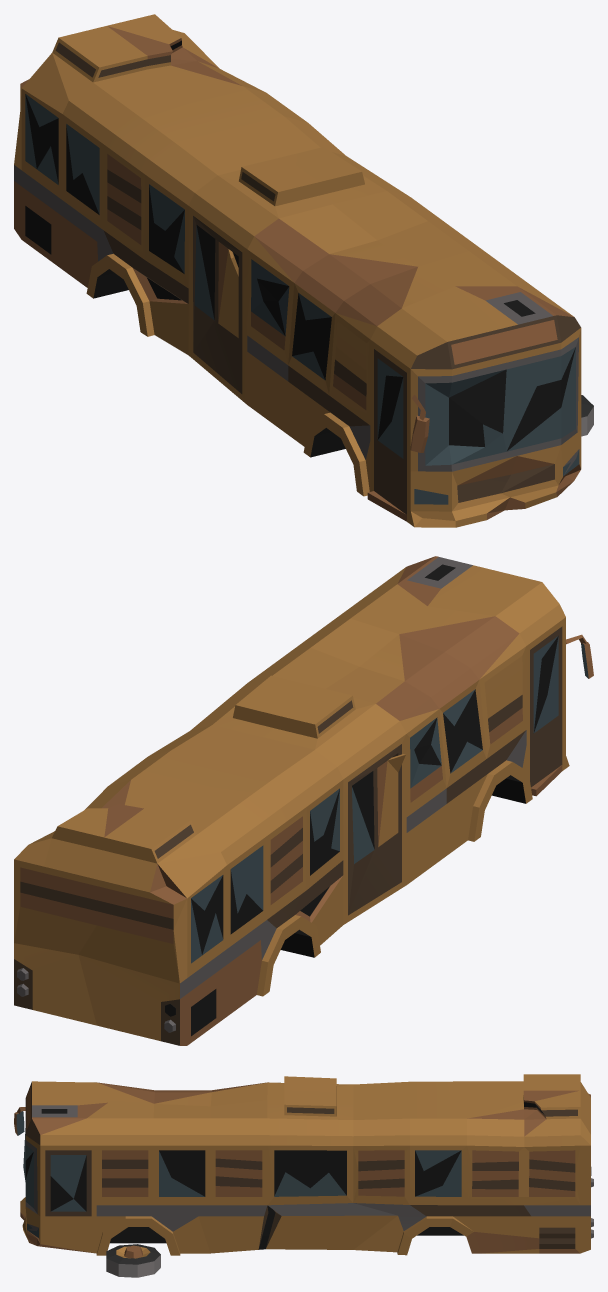
Rendered from apocalypse_bus-passenger-destroyed-apocalypse.fbx.
3 renders of one model, top to bottom at view 1: azimuth 30°, elevation 25°; view 2: azimuth 150°, elevation 25°; view 3: azimuth 270°, elevation 25°, orthographic. The views are drawn at different scales.
Parts seen in each view (by area): view 1: apocalypse_bus_passenger_destroyed_apocalypse; view 2: apocalypse_bus_passenger_destroyed_apocalypse; view 3: apocalypse_bus_passenger_destroyed_apocalypse.
Part boxes in pixels (box(x1,y1,x2,y2)): apocalypse_bus_passenger_destroyed_apocalypse: box(14, 14, 593, 527); apocalypse_bus_passenger_destroyed_apocalypse: box(14, 556, 593, 1045); apocalypse_bus_passenger_destroyed_apocalypse: box(14, 1074, 593, 1277).
Size of the model in its own units: 70.87 by 51.1 by 200.
